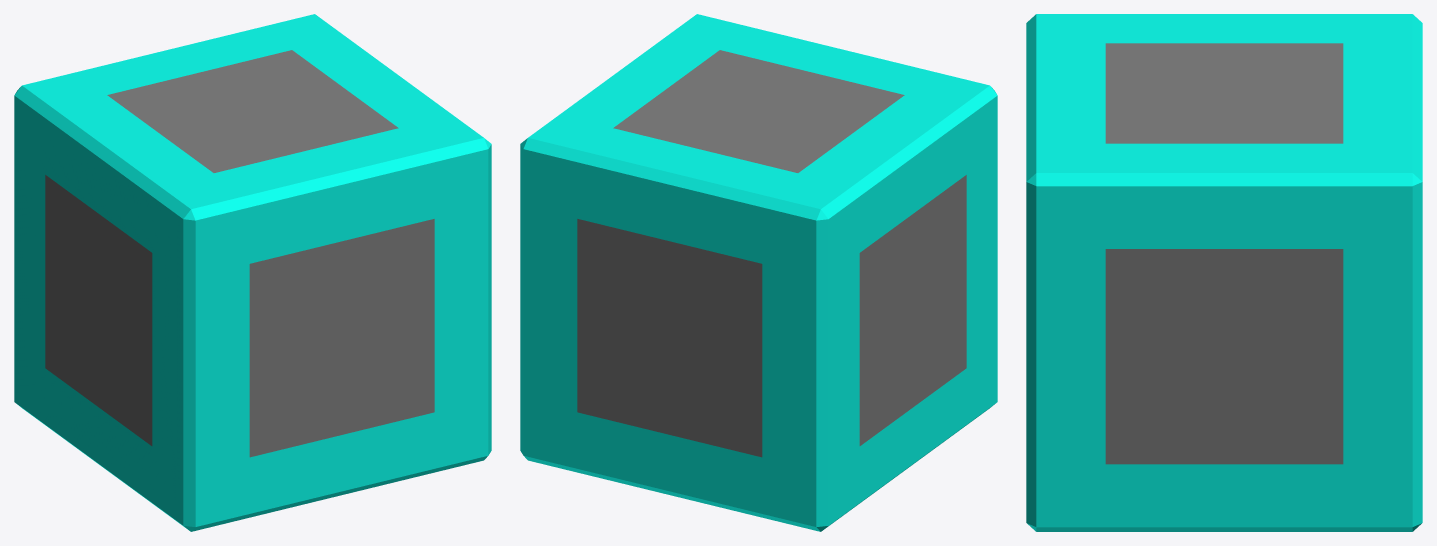
File: stone-12-full.glb
3 views of the same model, side by side, from view 1: azimuth 30°, elevation 25°; view 2: azimuth 150°, elevation 25°; view 3: azimuth 270°, elevation 25° (orthographic). The views are drawn at different scales.
Visible parts, largest first — view 1: m.base, y-Cube, x-Cube, z-Cube; view 2: m.base, y-Cube, x-Cube, z-Cube; view 3: m.base, x-Cube, z-Cube.
Part boxes in pixels (<box>): m.base: <box>14,14,491,531</box>; y-Cube: <box>249,219,434,457</box>; x-Cube: <box>45,175,152,445</box>; z-Cube: <box>107,50,398,172</box>; m.base: <box>520,14,997,531</box>; y-Cube: <box>577,219,762,457</box>; x-Cube: <box>859,175,966,445</box>; z-Cube: <box>613,50,904,172</box>; m.base: <box>1026,14,1422,531</box>; x-Cube: <box>1105,249,1343,464</box>; z-Cube: <box>1105,43,1343,143</box>.
Bounding box in the file's own units: 1 × 1 × 1.
